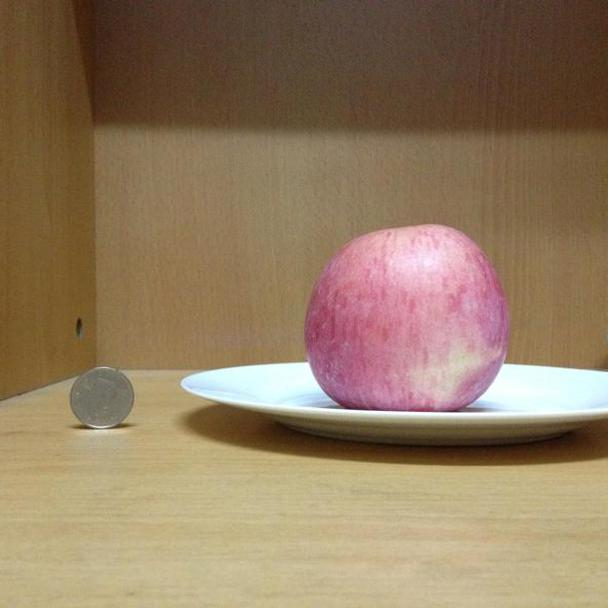apple: (305, 225, 511, 411)
